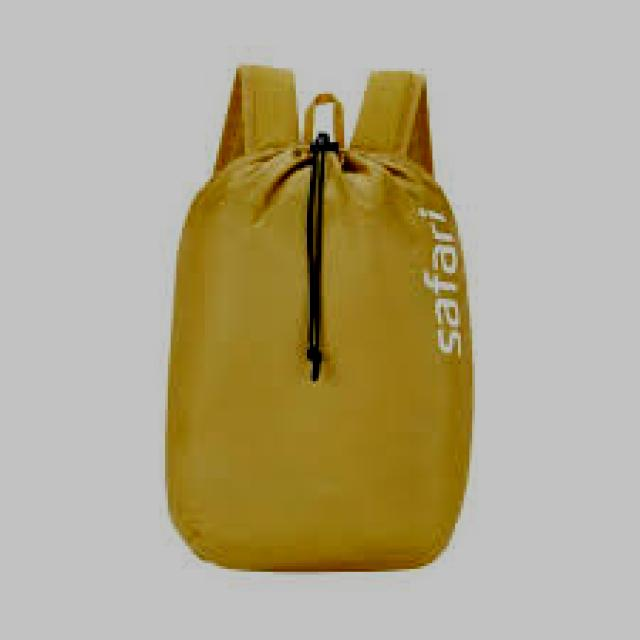backpack: (163, 64, 476, 573)
